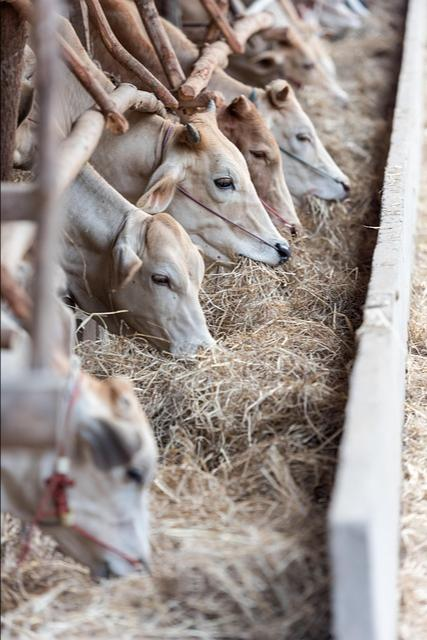Non_Gorille: (5, 0, 427, 640)
